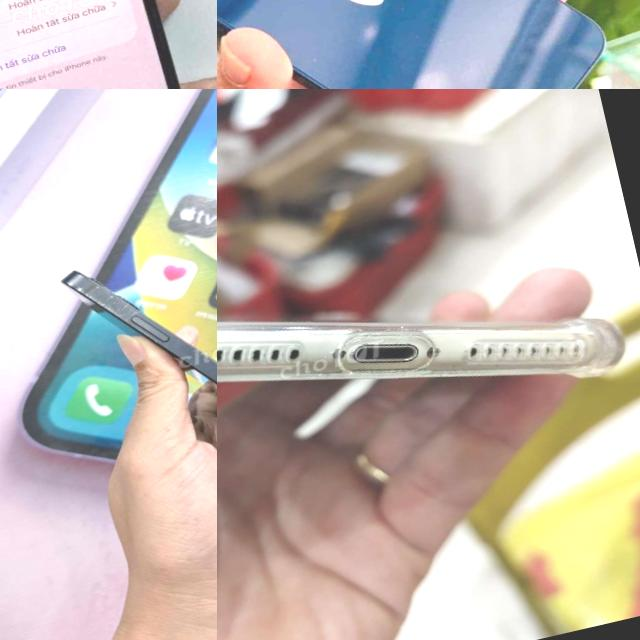gen_12_13: (50, 214, 217, 526), (217, 0, 629, 89), (0, 0, 215, 89)
gen_7_8: (217, 189, 640, 506)
